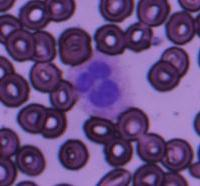N: (72, 54, 133, 118)
